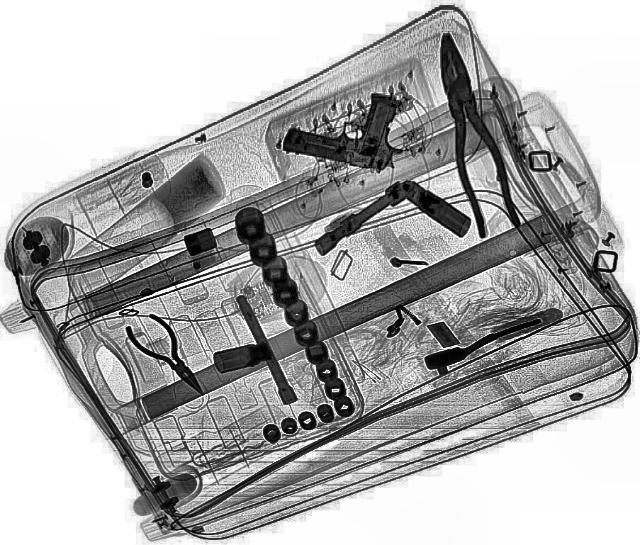Gun: (278, 73, 420, 175)
Pliers: (419, 30, 523, 238), (121, 309, 221, 403)
